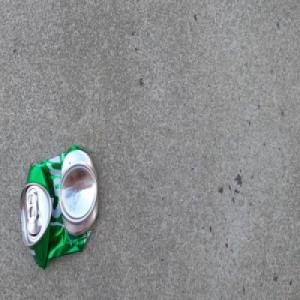SodaCan: (19, 142, 100, 270)
